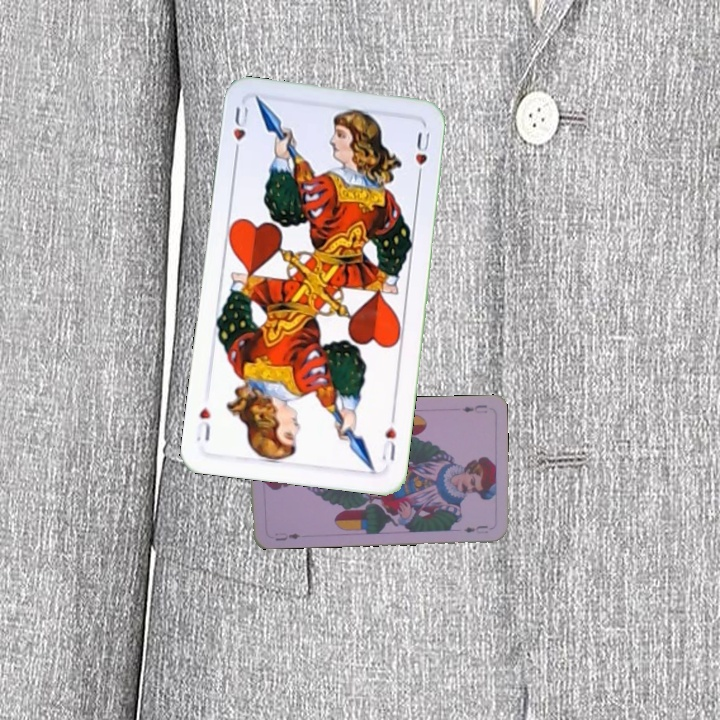EU: (458, 401, 490, 416), (271, 529, 302, 543)
HU: (229, 102, 251, 159), (377, 411, 399, 463)
